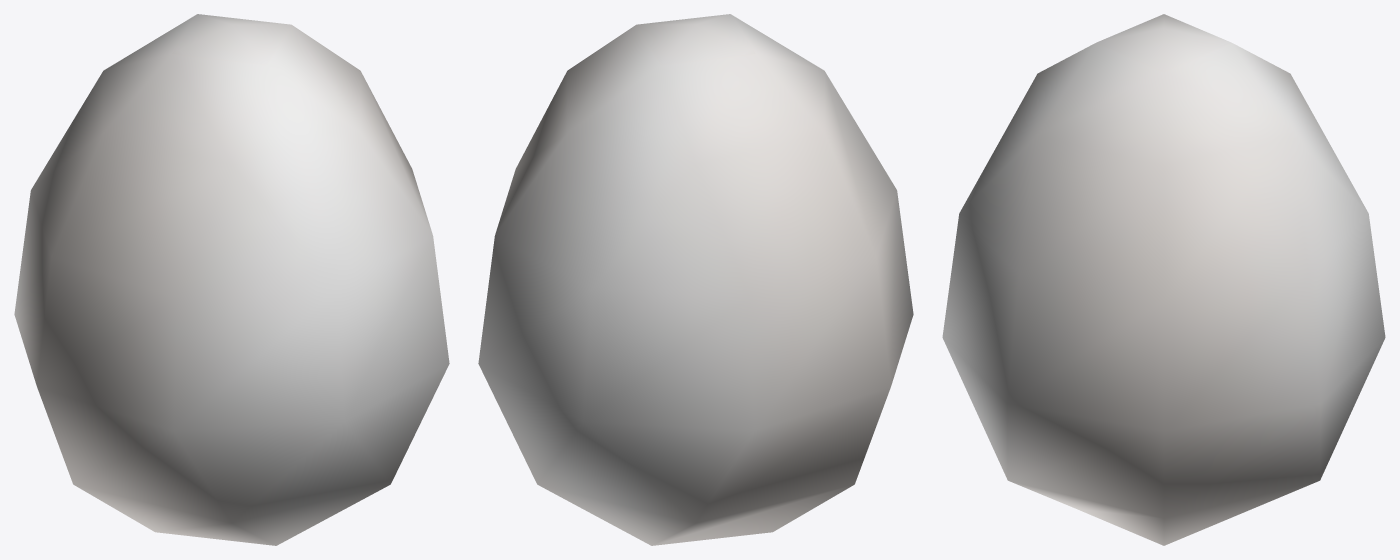
Rendered from jsf_Egg.fbx.
3 views of the same model, side by side, from view 1: azimuth 30°, elevation 25°; view 2: azimuth 150°, elevation 25°; view 3: azimuth 270°, elevation 25° (orthographic).
Parts seen in each view (by area): view 1: jsf_Egg; view 2: jsf_Egg; view 3: jsf_Egg.
Part boxes in pixels (left/top/right/bottom): jsf_Egg: left=14, top=14, right=449, bottom=545; jsf_Egg: left=478, top=14, right=913, bottom=545; jsf_Egg: left=942, top=14, right=1385, bottom=545.
Size of the model in its own units: 4.33 by 5.34 by 4.33.
